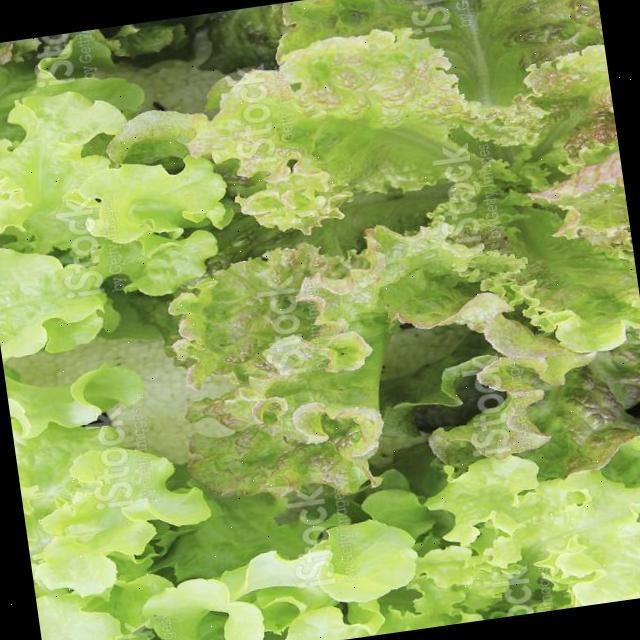Bacterial: (169, 259, 392, 502), (222, 27, 467, 220)
